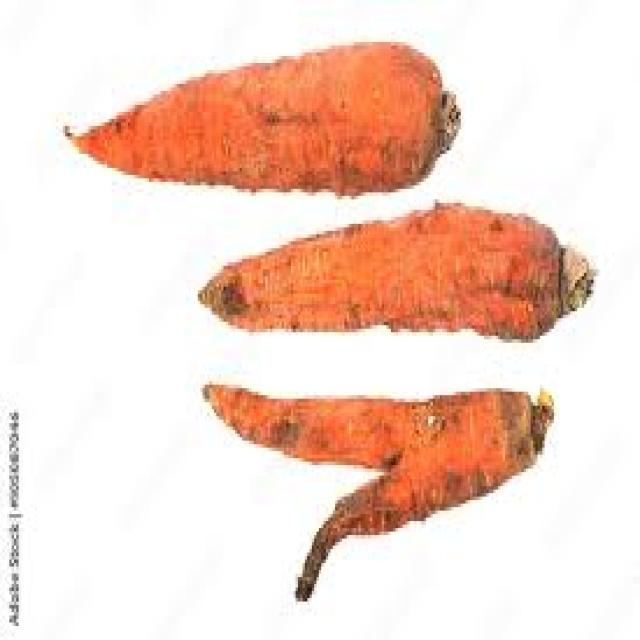Stale_Carrot: (194, 390, 554, 576)
